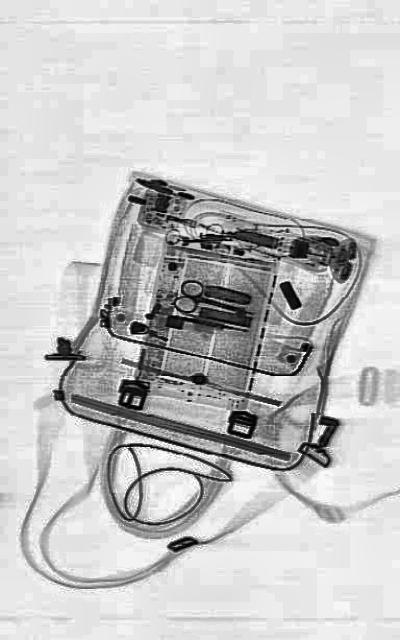Scissors: (172, 274, 252, 332)
